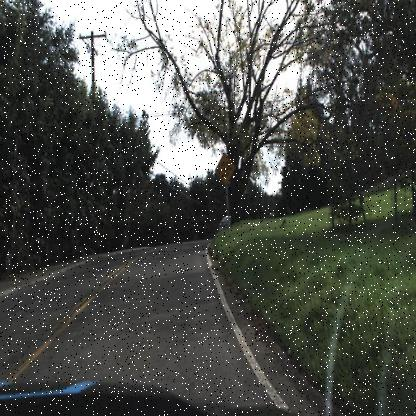car: (218, 216, 238, 236)
